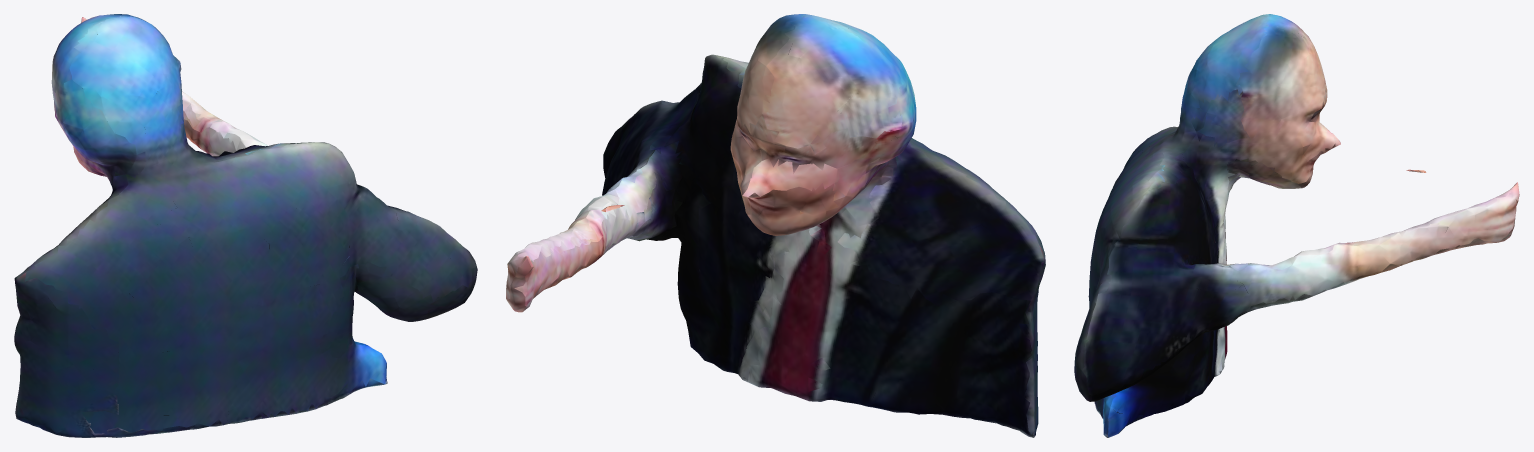
The picture shows the model from 3 angles, left to right: view 1: azimuth 30°, elevation 25°; view 2: azimuth 150°, elevation 25°; view 3: azimuth 270°, elevation 25°; orthographic projection. The views are drawn at different scales.
Parts seen in each view (by area): view 1: world; view 2: world; view 3: world.
Part boxes in pixels (<box>): world: <box>14,14,477,437</box>; world: <box>506,14,1045,437</box>; world: <box>1074,14,1519,437</box>.
Size of the model in its own units: 0.8982 by 0.7366 by 0.895.
1 material, 1 textured.
